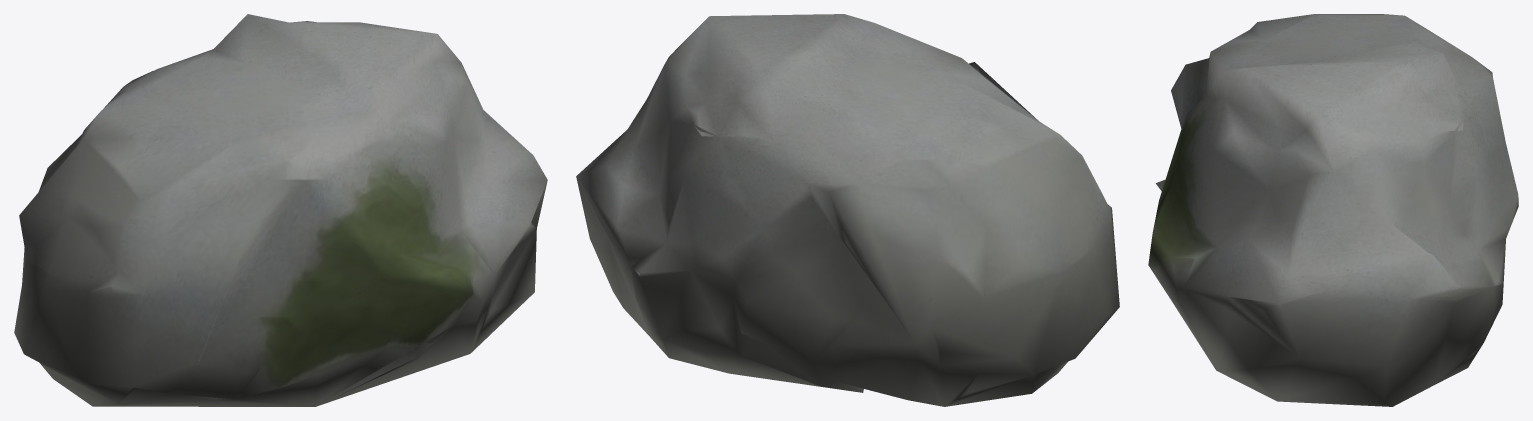
Rendered from boulder.glb.
3 views of the same model, side by side, from view 1: azimuth 30°, elevation 25°; view 2: azimuth 150°, elevation 25°; view 3: azimuth 270°, elevation 25° (orthographic). The views are drawn at different scales.
Visible parts, largest first — view 1: tripo_node_832dd6af-8660-47f3-8881-7c72c41bad85; view 2: tripo_node_832dd6af-8660-47f3-8881-7c72c41bad85; view 3: tripo_node_832dd6af-8660-47f3-8881-7c72c41bad85.
Part boxes in pixels (x1=…): tripo_node_832dd6af-8660-47f3-8881-7c72c41bad85: x1=14, y1=14, x2=547, y2=406; tripo_node_832dd6af-8660-47f3-8881-7c72c41bad85: x1=576, y1=14, x2=1119, y2=406; tripo_node_832dd6af-8660-47f3-8881-7c72c41bad85: x1=1148, y1=14, x2=1518, y2=406.
Size of the model in its own units: 1 by 0.5684 by 0.6895.
1 material, 1 textured.
